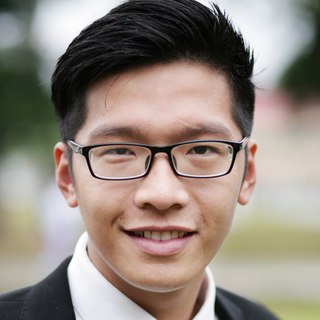eye: (181, 140, 225, 164), (97, 142, 141, 164)
